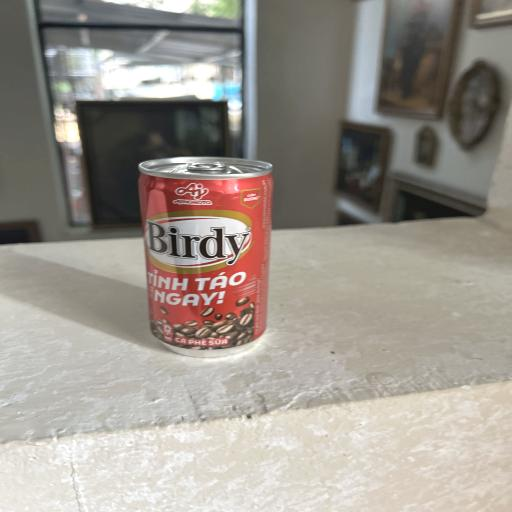birdy: (134, 155, 273, 360)
